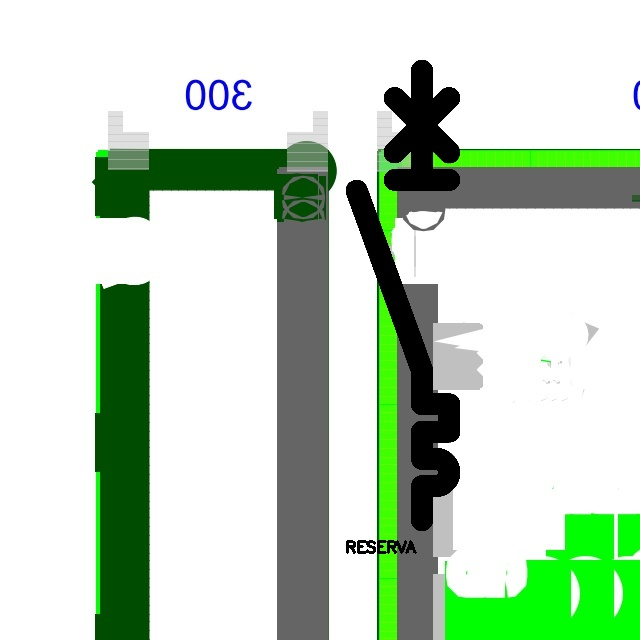interruptor_termomagnetico: (345, 59, 461, 532)
